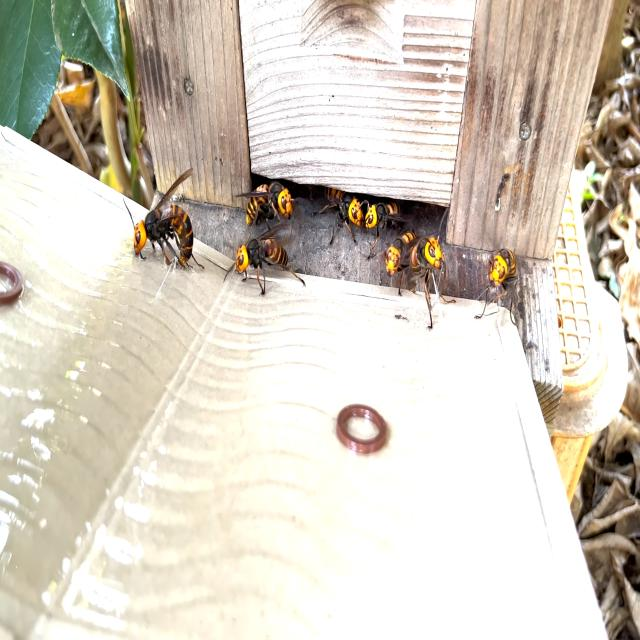Hornets: (121, 165, 202, 272), (397, 202, 456, 331), (223, 220, 306, 298), (477, 243, 518, 329), (234, 176, 298, 230), (316, 189, 366, 246), (361, 197, 402, 244)
